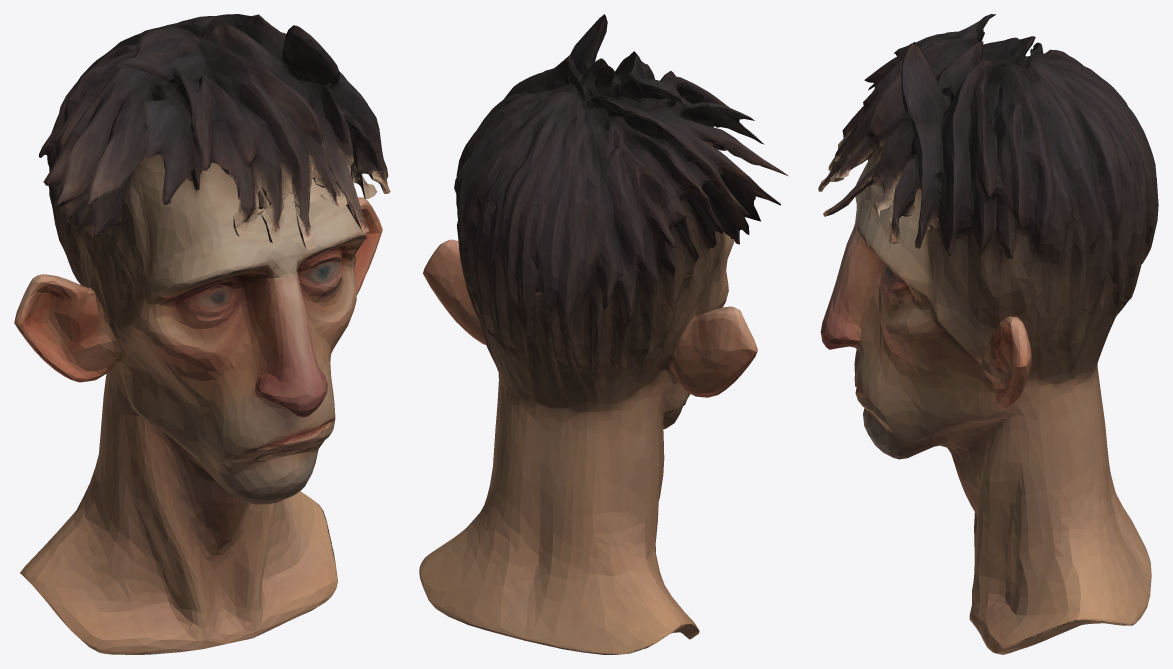
The model's file is generated_head_candidate.glb.
The picture shows the model from 3 angles, left to right: view 1: azimuth 30°, elevation 25°; view 2: azimuth 150°, elevation 25°; view 3: azimuth 270°, elevation 25°; orthographic projection. The views are drawn at different scales.
Parts seen in each view (by area): view 1: geometry_0; view 2: geometry_0; view 3: geometry_0.
Boxes of the visible parts, box(x1,y1,x2,y2) form: geometry_0: box(14, 14, 390, 654); geometry_0: box(419, 14, 788, 654); geometry_0: box(818, 14, 1158, 654).
Size of the model in its own units: 0.6124 by 0.9984 by 0.5277.
1 material, 1 textured.
